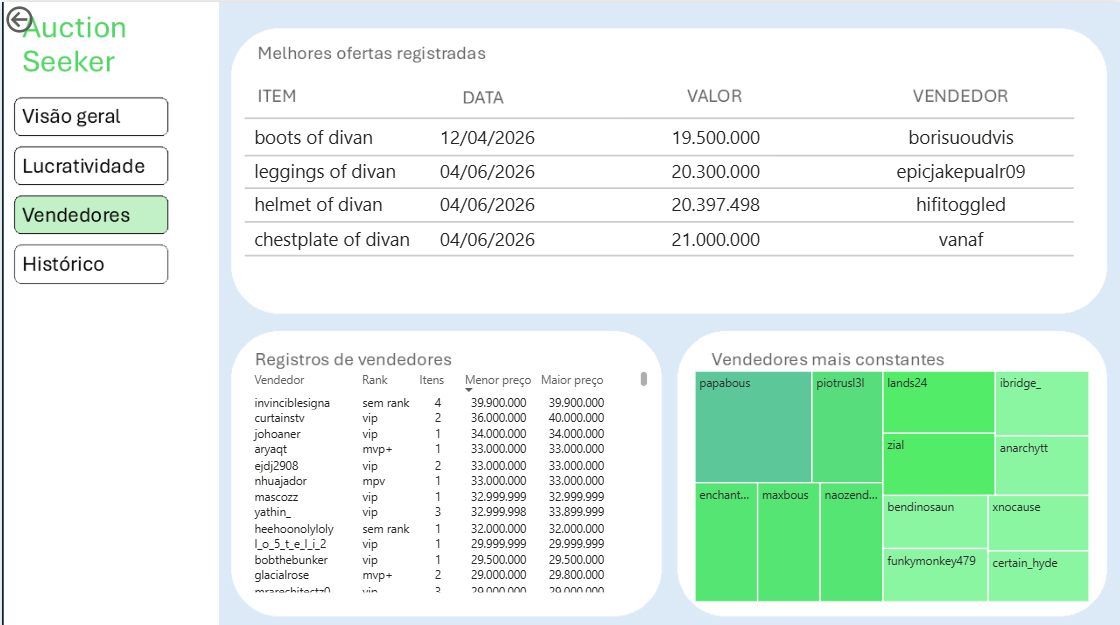

The page's visual inventory and layout, read from the dashboard file:
{"tool":"powerbi","page":{"name":"pagina 3","canvas":[1280,720],"ordinal":2},"visuals":[{"type":"tableEx","fields":{"Values":["public auction_items.name","public auction_items.scan_timestamp","Min(public auction_items.price)","public sellers.name"]},"box":[277.1,118.6,970,224.3],"z":0},{"type":"shape","box":[277.1,118.6,948.6,28.6],"z":1000},{"type":"shape","box":[277.3,161.5,947.8,28.3],"z":2000},{"type":"shape","box":[277.3,199.2,947.8,28.3],"z":3000},{"type":"shape","box":[277.3,276,947.8,28.3],"z":4000},{"type":"shape","box":[277.3,236.9,947.8,28.3],"z":5000},{"type":"actionButton","box":[17.5,110,172.5,45],"z":6000},{"type":"actionButton","box":[19.2,275.8,171.5,43.9],"z":7000},{"type":"actionButton","box":[17.5,224.2,172.5,40.8],"z":8000},{"type":"actionButton","box":[17.8,166,172.9,48],"z":9000},{"type":"treemap","fields":{"Group":["public sellers.name"],"Values":["CountNonNull(public auction_items.id)"]},"box":[787.5,417.3,460.4,273.3],"z":10000},{"type":"tableEx","fields":{"Values":["public sellers.name","public sellers.rank","CountNonNull(public auction_items.id)","Min(public auction_items.price)","Max(public auction_items.price)1"]},"box":[277.1,417.1,465.7,262.9],"z":11000},{"type":"actionButton","box":[0,0,100,40],"z":12000}]}

Visuals, with their boxes in screenshot pixels (x1, y1, x2, y2), scaled from the page's 1280x720 canvas onto the 1120x625 screenshot:
tableEx - public auction_items.name x public auction_items.scan_timestamp: bbox(242, 103, 1091, 298)
shape: bbox(242, 103, 1072, 128)
shape: bbox(243, 140, 1072, 165)
shape: bbox(243, 173, 1072, 197)
shape: bbox(243, 240, 1072, 264)
shape: bbox(243, 206, 1072, 230)
actionButton: bbox(15, 95, 166, 135)
actionButton: bbox(17, 239, 167, 278)
actionButton: bbox(15, 195, 166, 230)
actionButton: bbox(16, 144, 167, 186)
treemap - public sellers.name x CountNonNull(public auction_items.id): bbox(689, 362, 1092, 599)
tableEx - public sellers.name x public sellers.rank: bbox(242, 362, 650, 590)
actionButton: bbox(0, 0, 88, 35)
